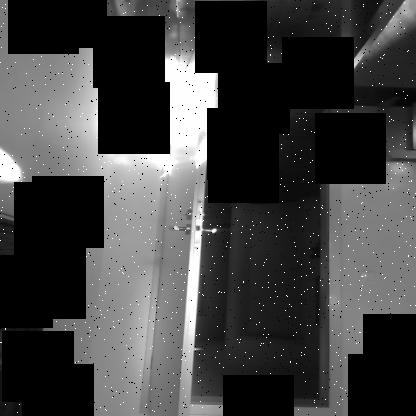Porte: (140, 18, 343, 415)
